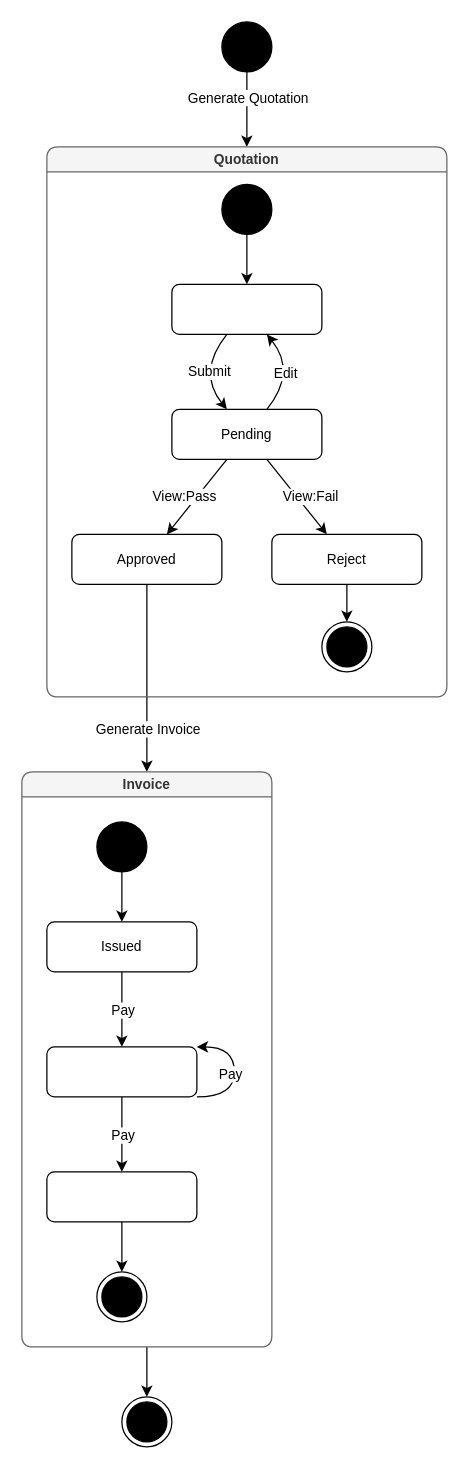
Some shapes in this 469 by 1469 pixel diagram are drawn without their labels. The centre of each missing label's shape, as x and y in pixels:
Draft: point 246,308
Paid: point 121,1196
Partial Payment: point 121,1071
